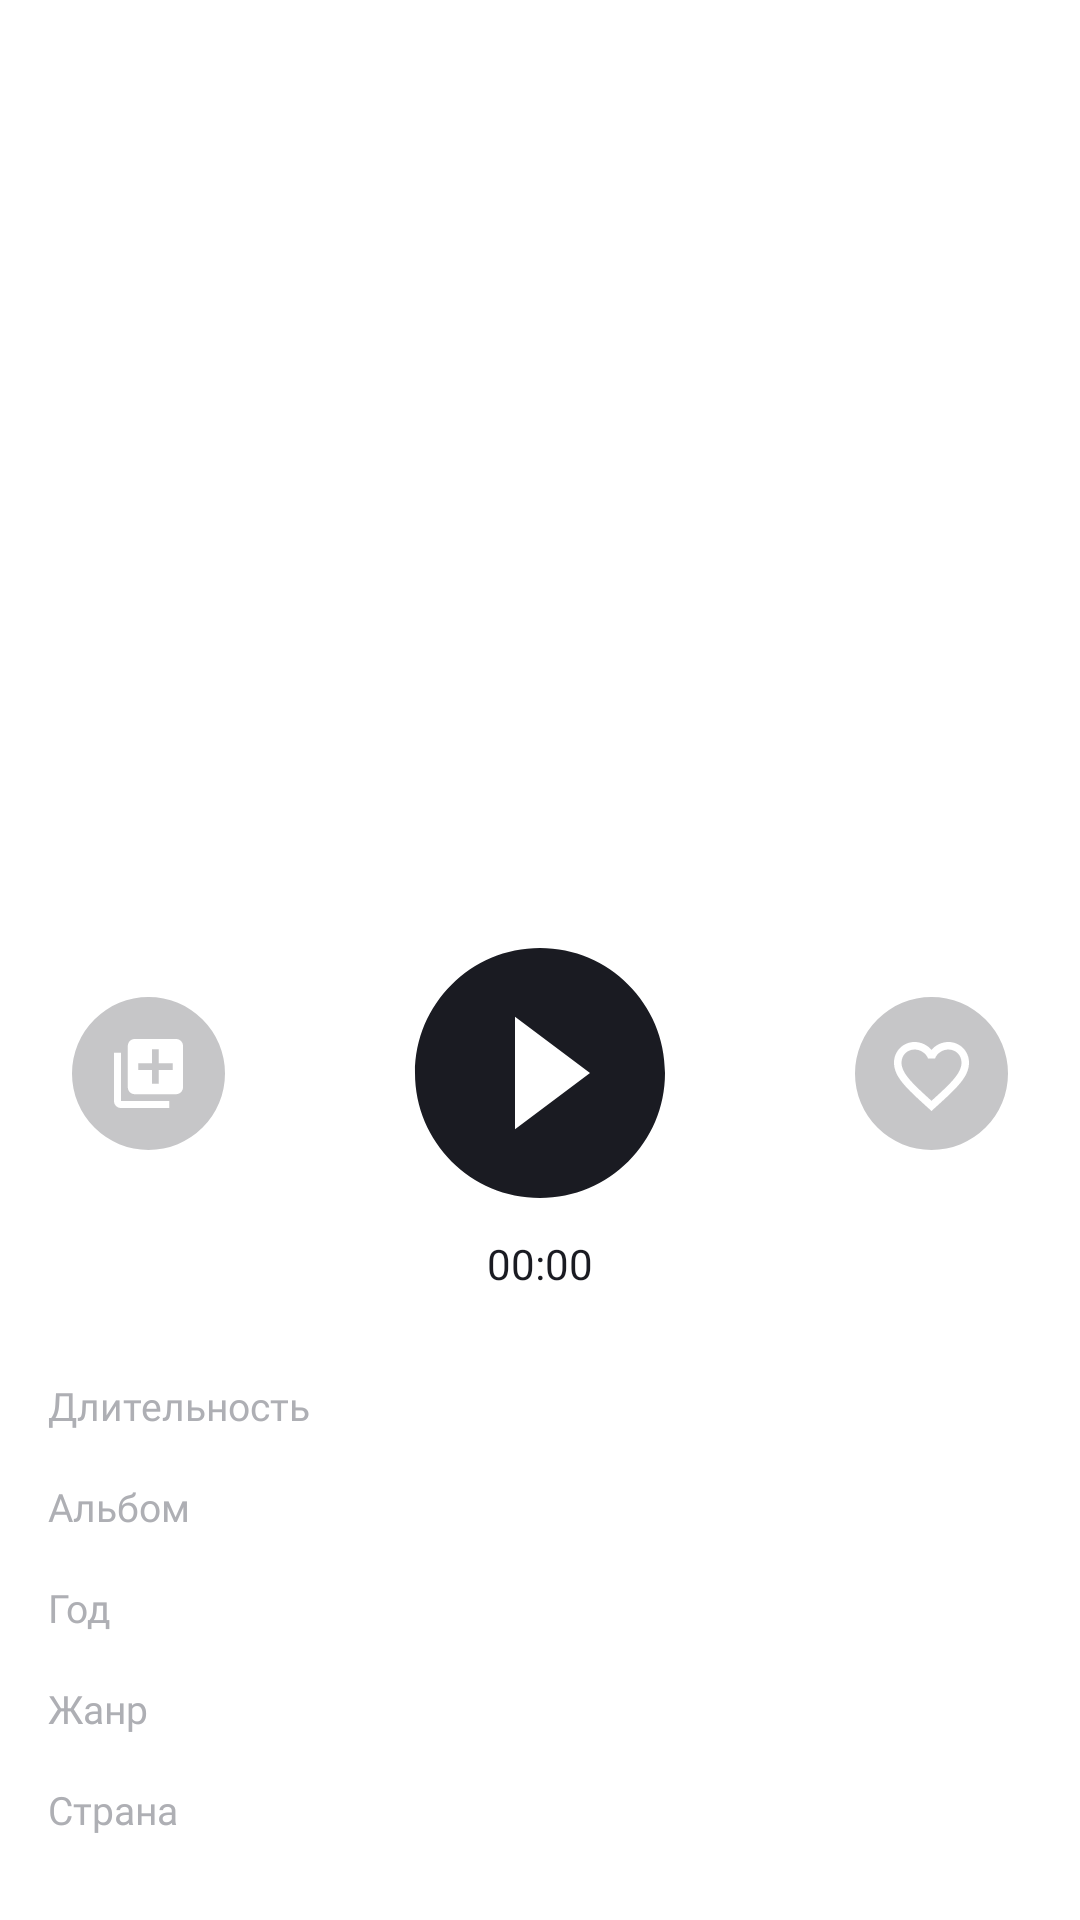

Icon bounding boxes for this 1080px x 1920px phone screenshot, format (x1, y1, x2, y2):
add: (72, 997, 225, 1150)
like: (855, 997, 1008, 1150)
play: (415, 948, 665, 1198)
